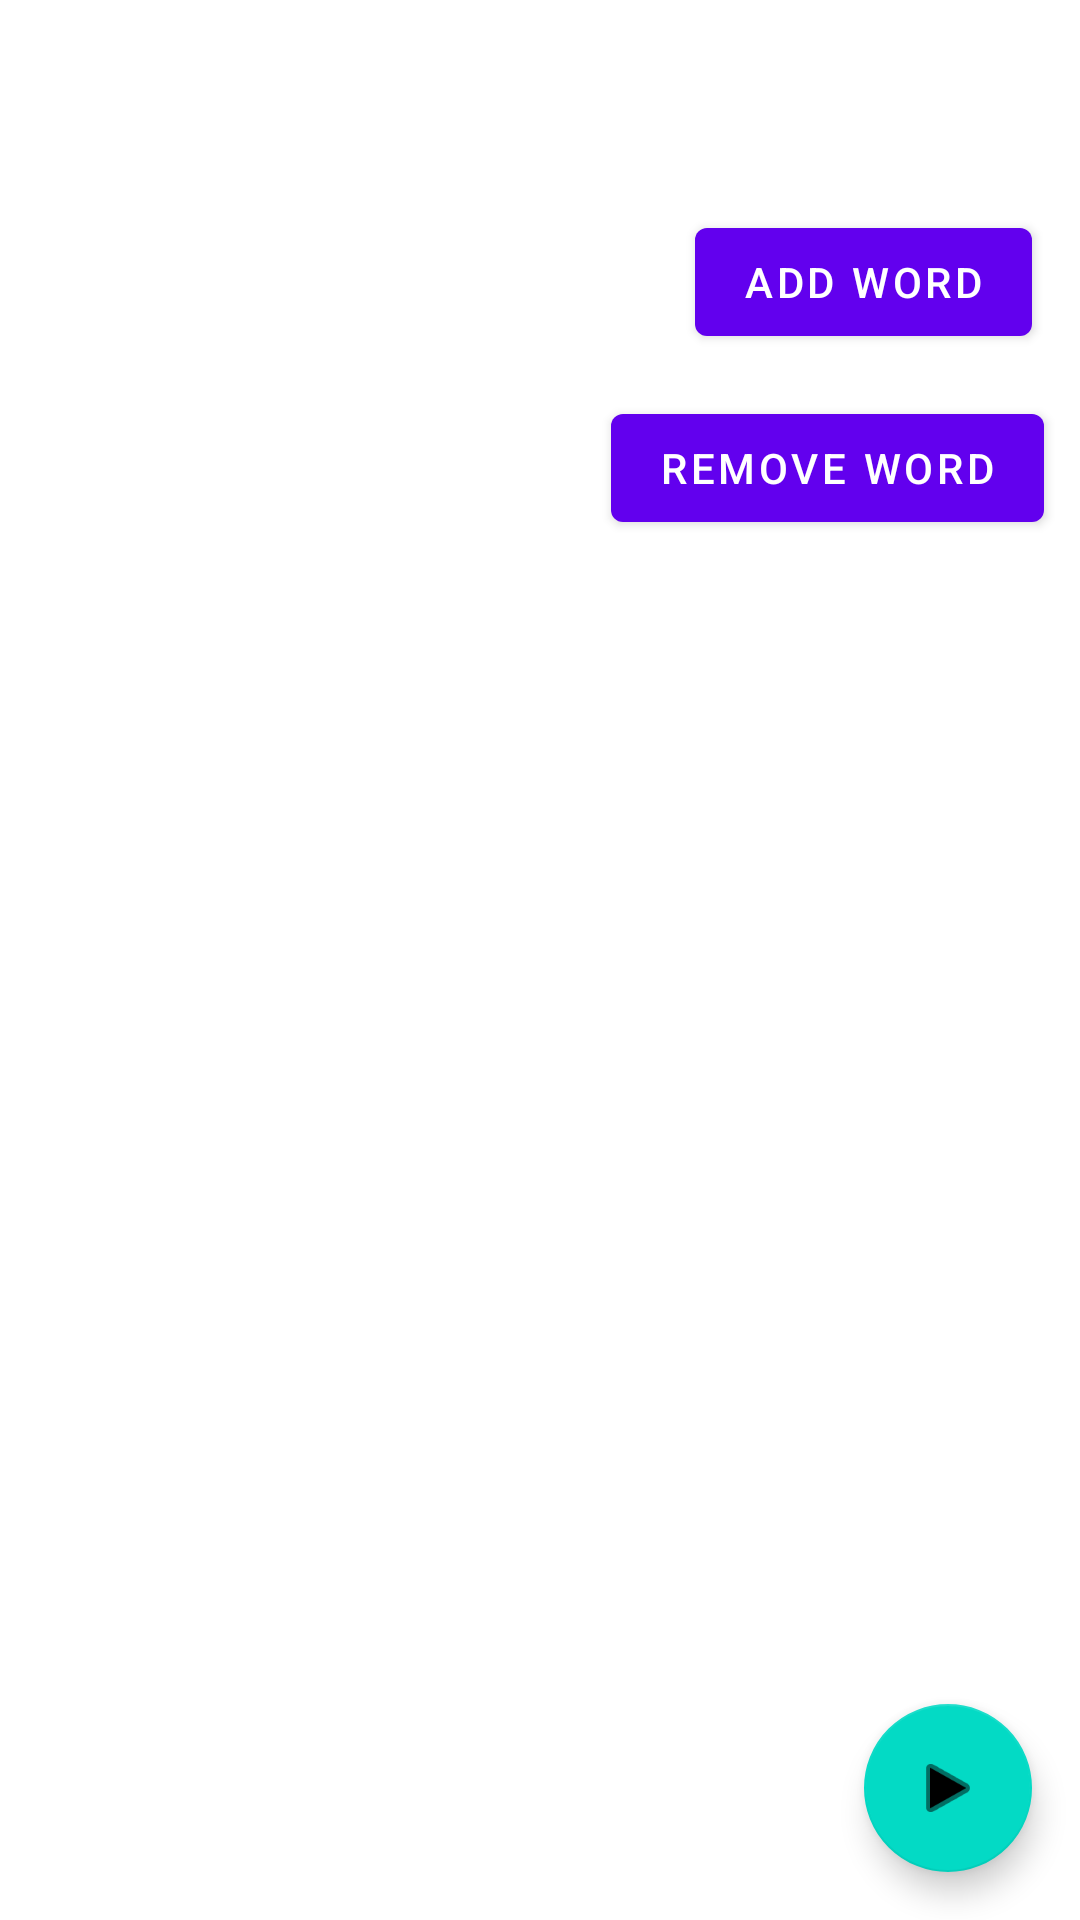

Point at icon controls on the screen. Image size 1080px x 1920px, points as (x,y).
Next random number: (948,1788)
